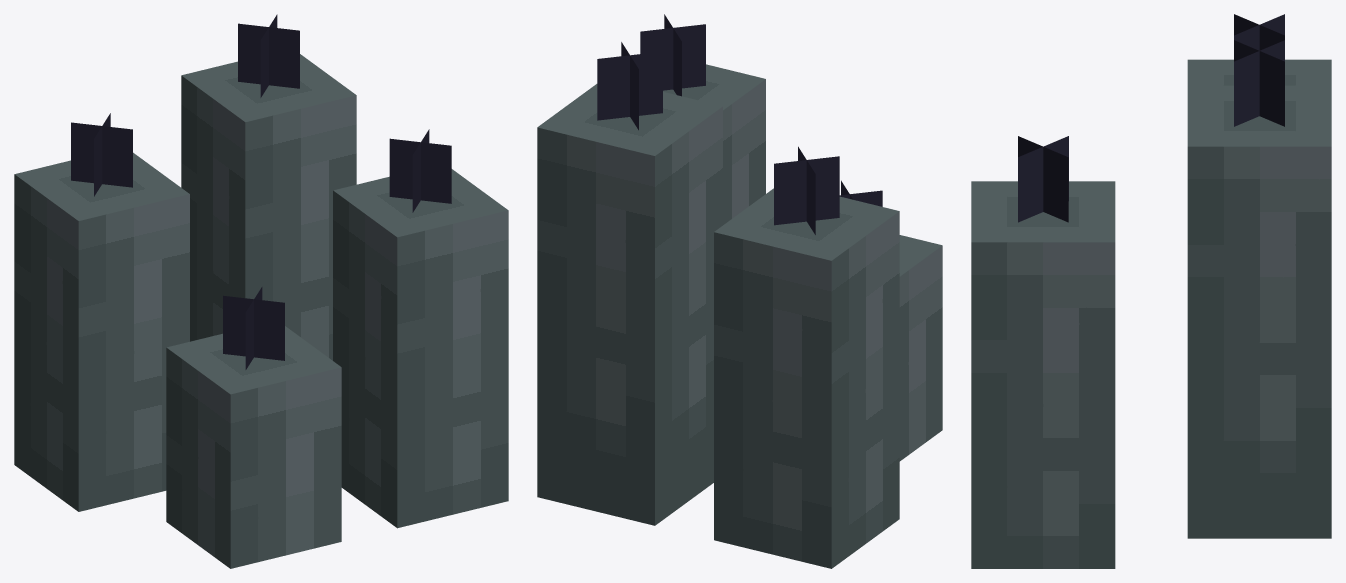
The model's file is block_gray_candle_four_candles.gltf.
3 renders of one model, left to right at view 1: azimuth 30°, elevation 25°; view 2: azimuth 150°, elevation 25°; view 3: azimuth 270°, elevation 25°, orthographic. The views are drawn at different scales.
Visible parts, largest first — view 1: cube (×8); view 2: cube (×10); view 3: cube (×9).
Boxes of the visible parts, x1,y1,x2,y2 form: cube (×8): [14, 23, 508, 568]; cube (×10): [537, 14, 942, 568]; cube (×9): [971, 14, 1331, 568].
Bounding box in the file's own units: 0.375 × 0.4375 × 0.3125.
Materials: 1 (1 with a texture image).
